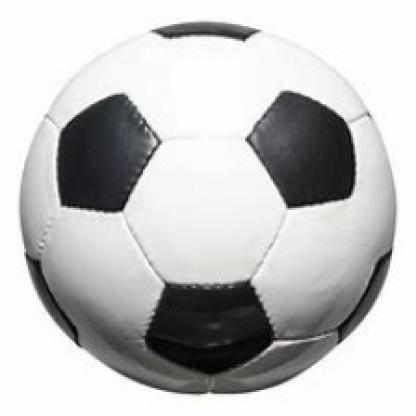ball: (7, 6, 405, 403)
